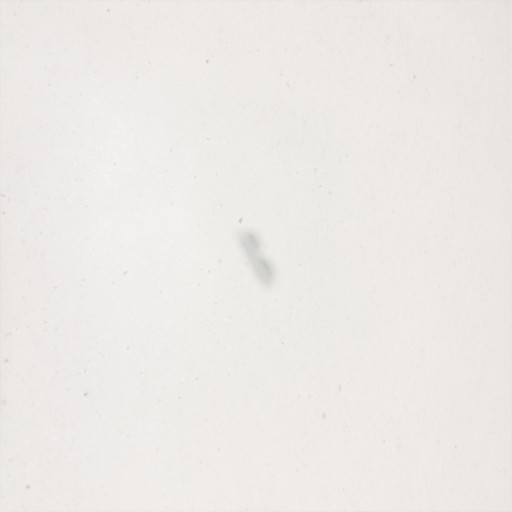lego: (232, 227, 279, 291)
